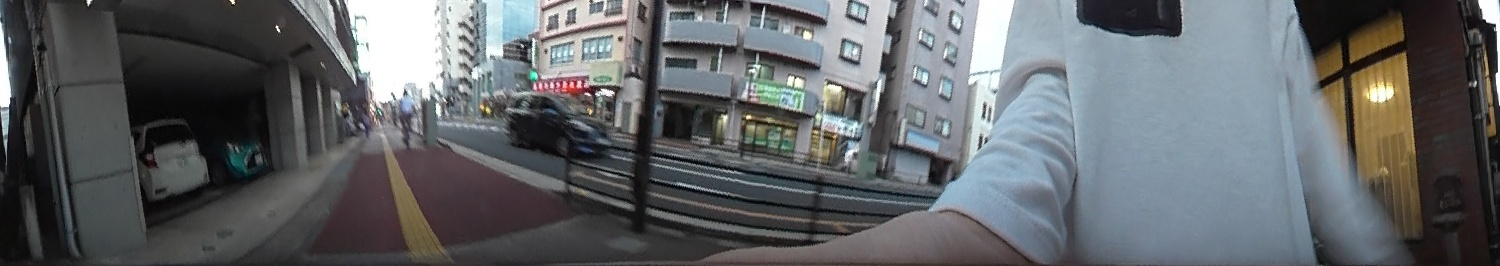difficult_person: (360, 105, 374, 139)
person: (393, 87, 415, 140)
